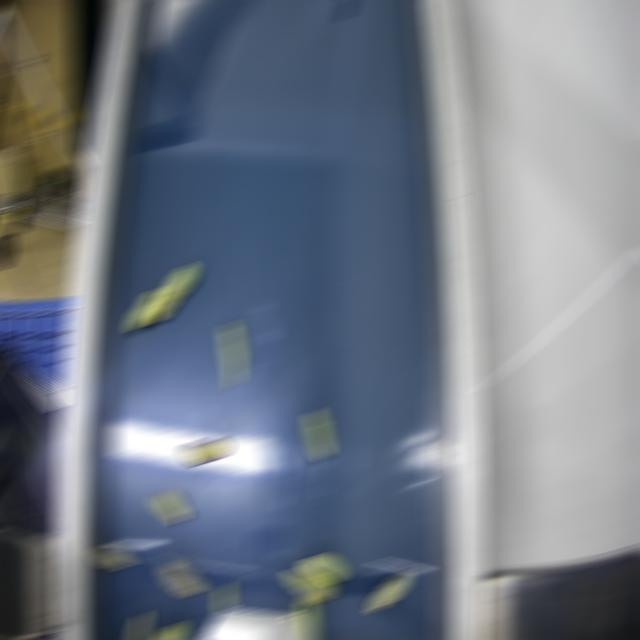Baby Potato: (148, 260, 195, 325), (150, 480, 187, 533), (367, 570, 410, 611), (285, 568, 335, 602), (125, 284, 163, 328), (158, 558, 203, 594), (182, 430, 226, 464), (92, 535, 134, 570), (221, 321, 243, 387), (301, 554, 345, 585), (305, 409, 331, 459), (295, 593, 319, 639), (150, 618, 186, 639), (128, 609, 148, 639), (213, 582, 234, 606)
